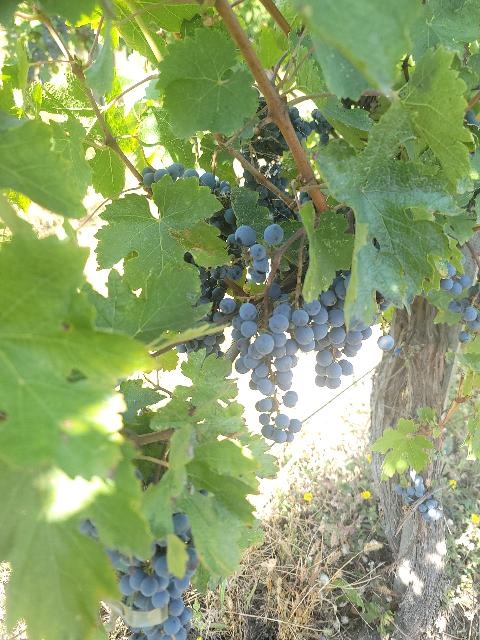grapes: (232, 302, 301, 444), (105, 540, 200, 640), (315, 278, 364, 389), (291, 300, 329, 346)
